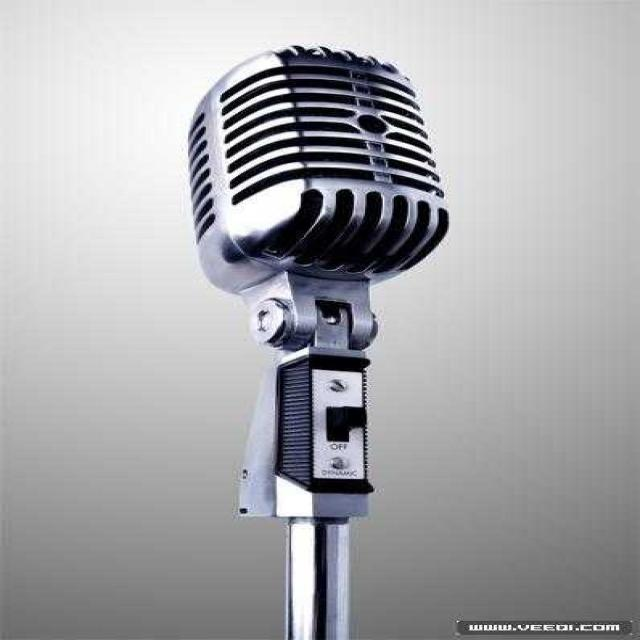microphone: (157, 38, 488, 494)
